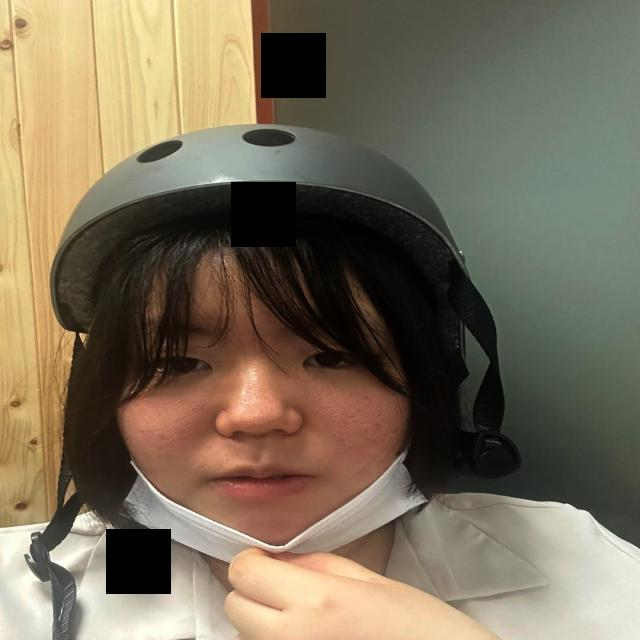Helmet: (50, 122, 466, 548)
